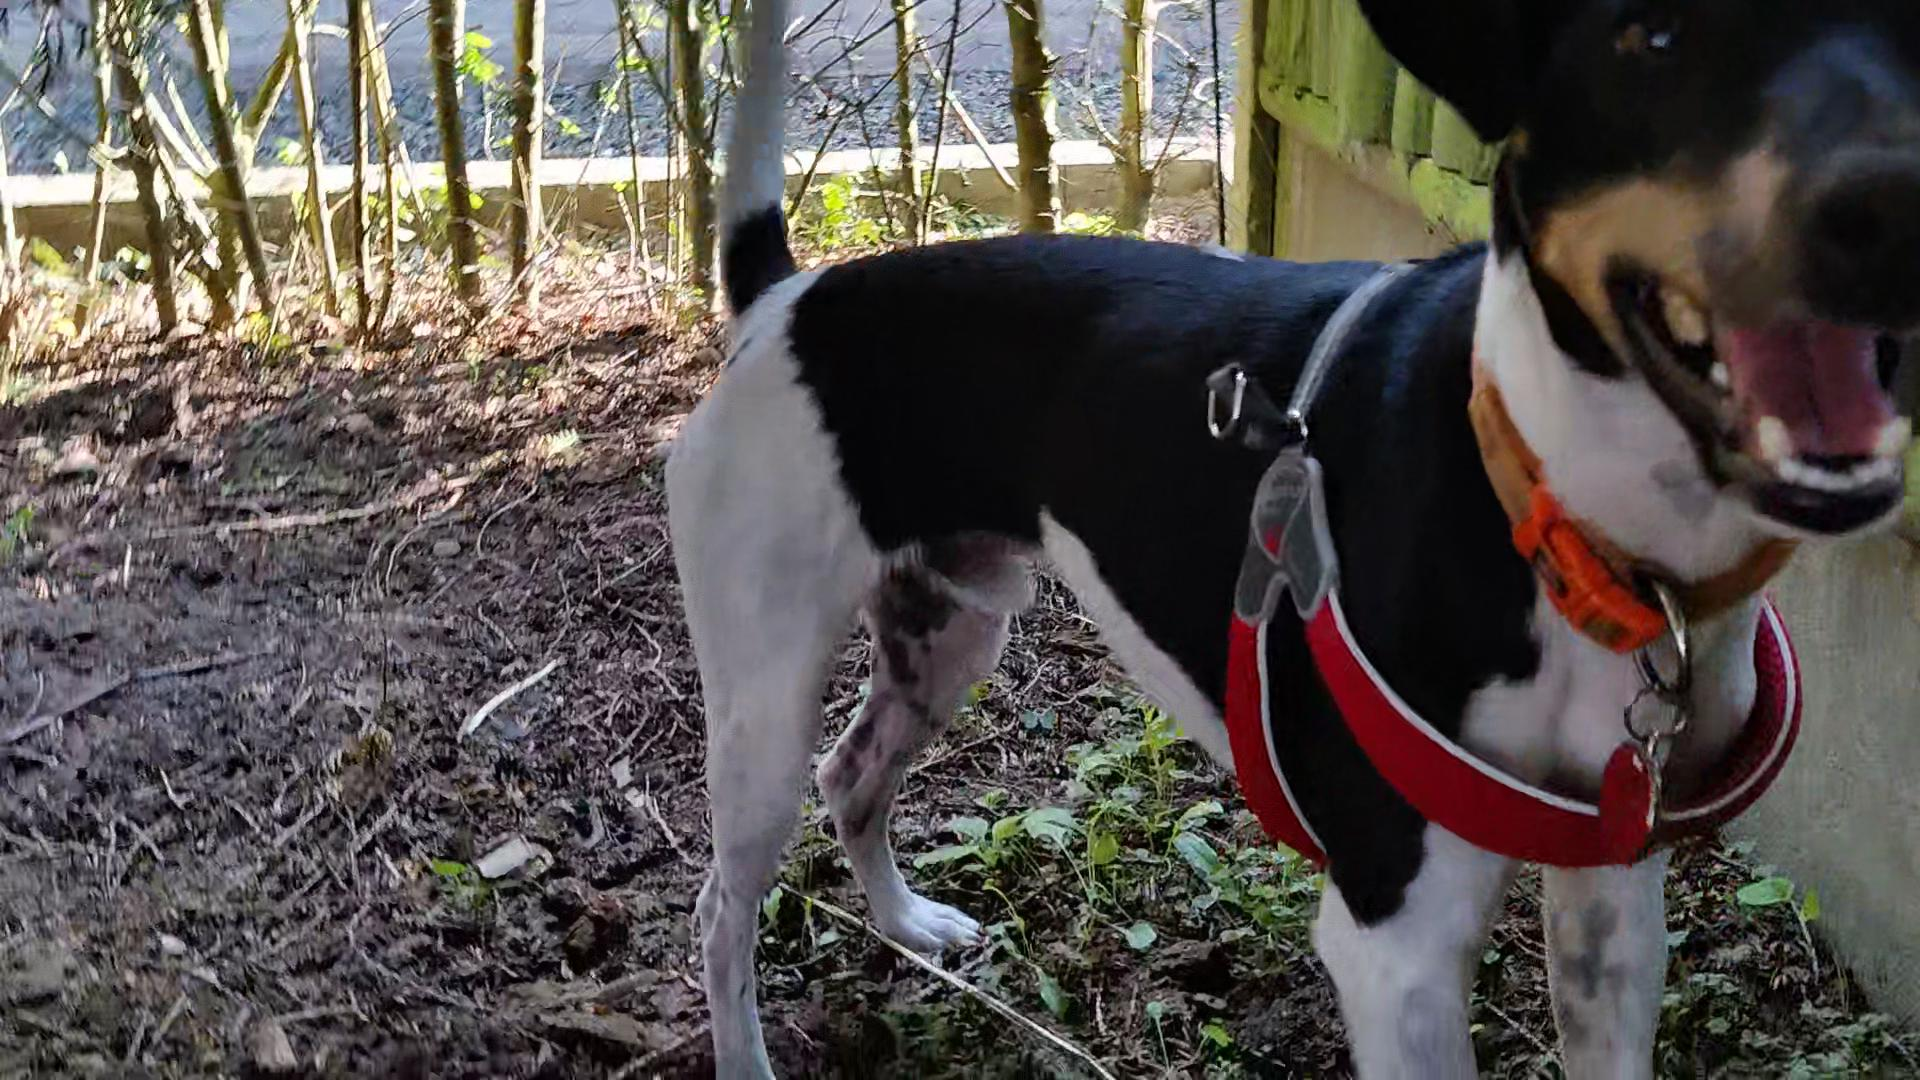Dog: (647, 0, 1919, 1079)
